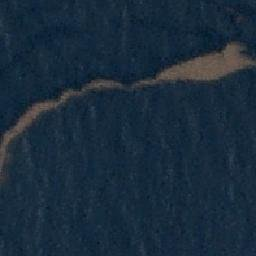debris: (64, 82, 98, 102), (1, 128, 14, 177), (13, 108, 39, 132), (34, 95, 66, 114), (209, 52, 243, 67), (173, 59, 207, 72), (98, 80, 130, 93), (198, 66, 224, 81), (156, 70, 200, 78), (128, 79, 161, 89), (223, 40, 246, 54), (241, 56, 256, 67)
